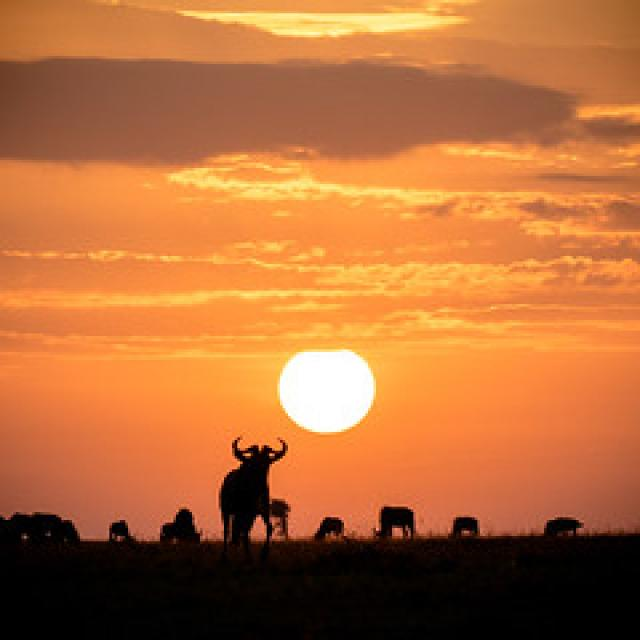sun: (268, 328, 388, 448)
